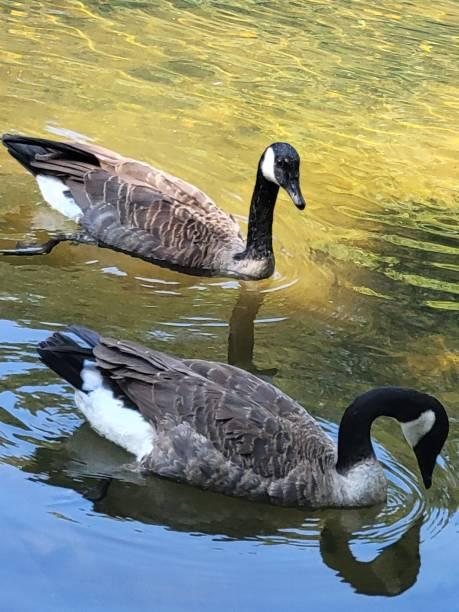Canadian-Goose: (39, 318, 447, 509), (6, 118, 305, 287)
